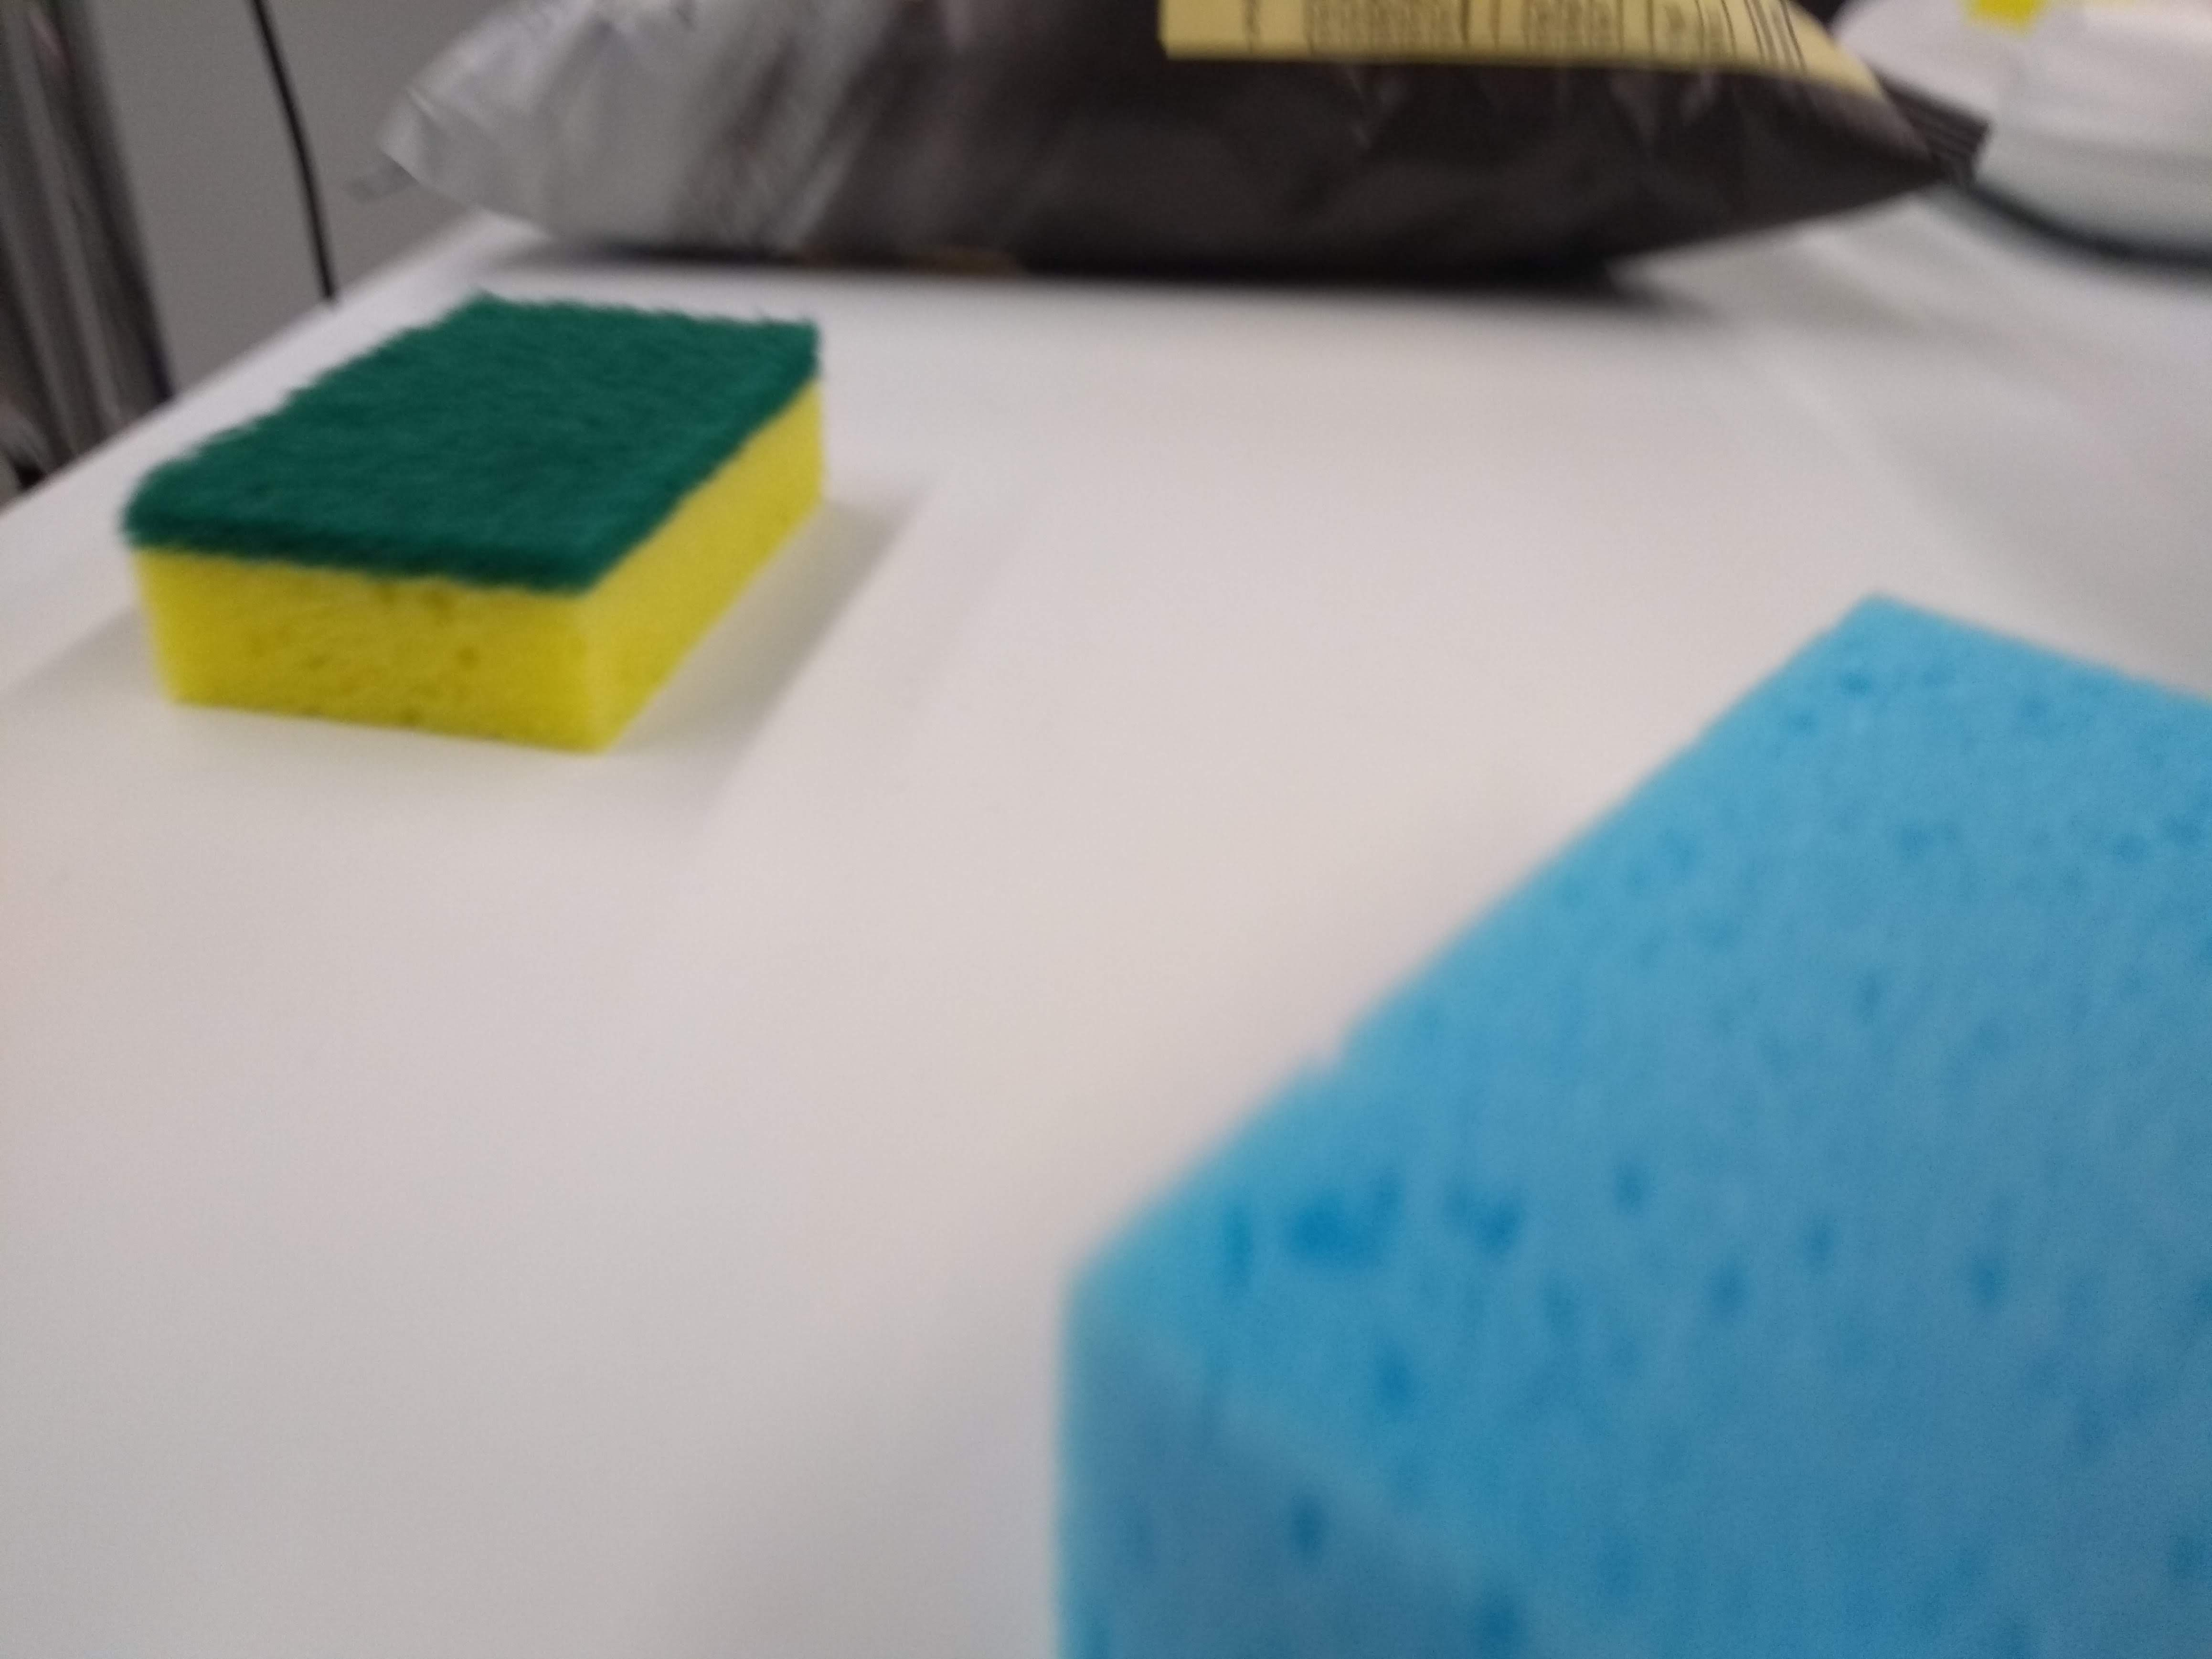scrubby: (115, 270, 866, 769)
